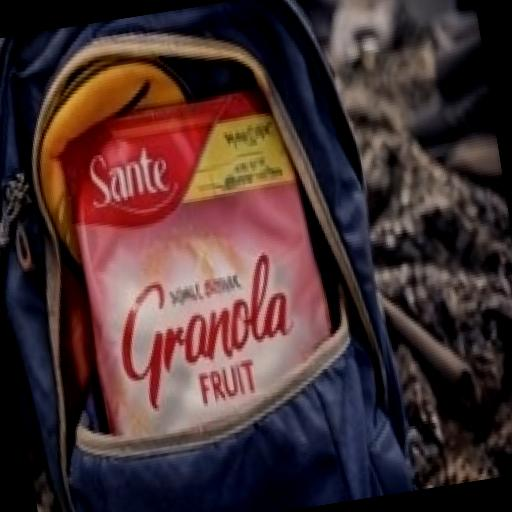granola: (10, 34, 394, 500)
